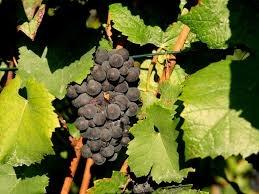Grape Rotten: (66, 46, 141, 166)
